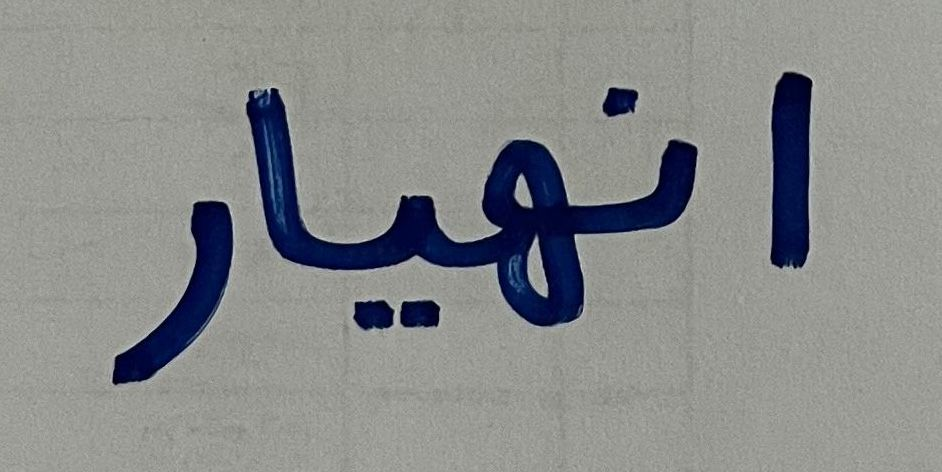alef: (731, 10, 880, 351), (237, 54, 308, 290)
heh: (461, 122, 594, 365)
noon: (599, 46, 709, 278)
reh: (75, 162, 233, 389)
yeh: (313, 139, 453, 377)
